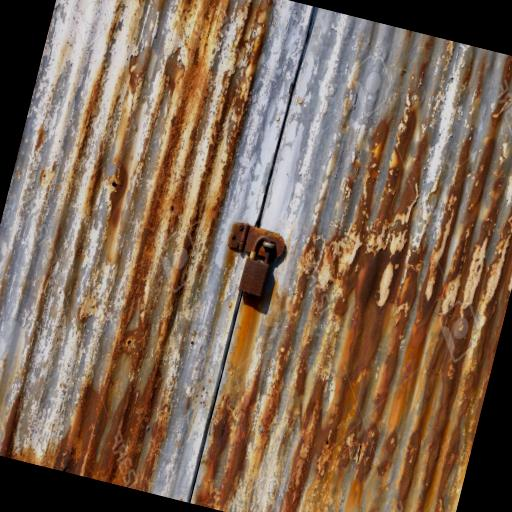segmentation: (182, 31, 512, 512)
